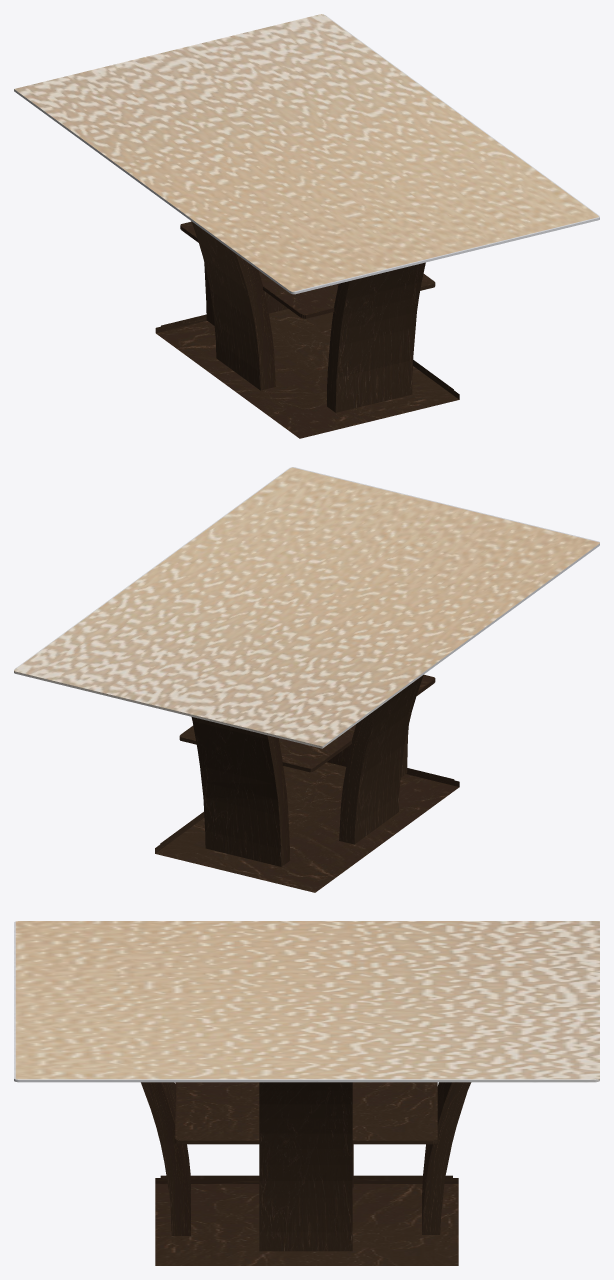
3 views of the same model, one above another, from view 1: azimuth 30°, elevation 25°; view 2: azimuth 150°, elevation 25°; view 3: azimuth 270°, elevation 25° (orthographic). The views are drawn at different scales.
Parts seen in each view (by area): view 1: Cube.005; view 2: Cube.005; view 3: Cube.005.
Part boxes in pixels (x1,y1,x2,y2): Cube.005: (14,14,599,438); Cube.005: (14,467,599,892); Cube.005: (14,921,599,1265).
Bounding box in the file's own units: 4.45 × 2.93 × 6.94.
2 materials, 2 textured.
